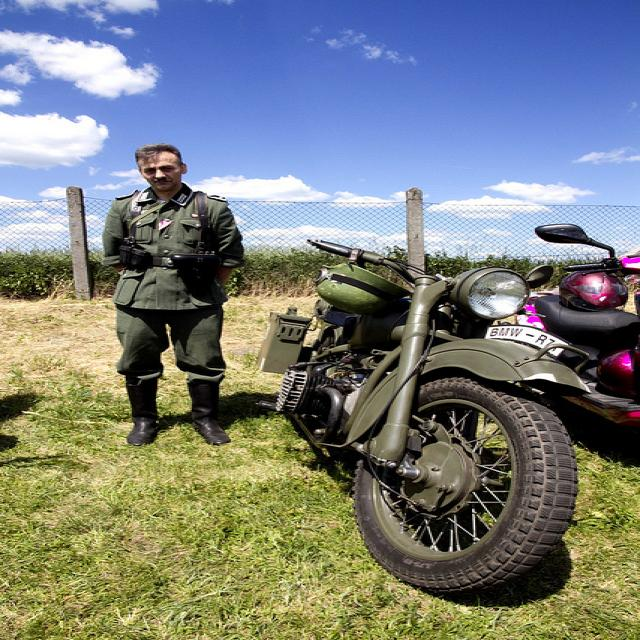motor: (259, 234, 595, 592), (520, 261, 639, 461)
